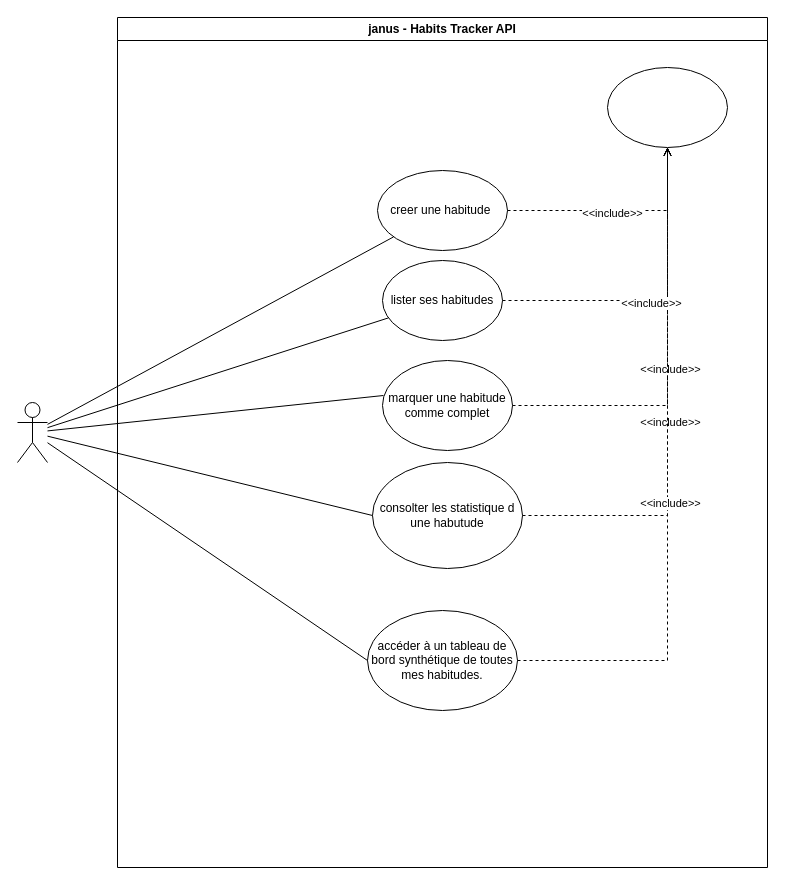
Image size: 785x885. Some labels were removed from this diagram. Here are the shapes that lost their labels. From the top down, the centre of each, then its label:
(667,107): s'authentifier
(32,432): User
